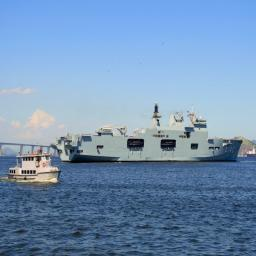Portanaves: (51, 101, 245, 164)
